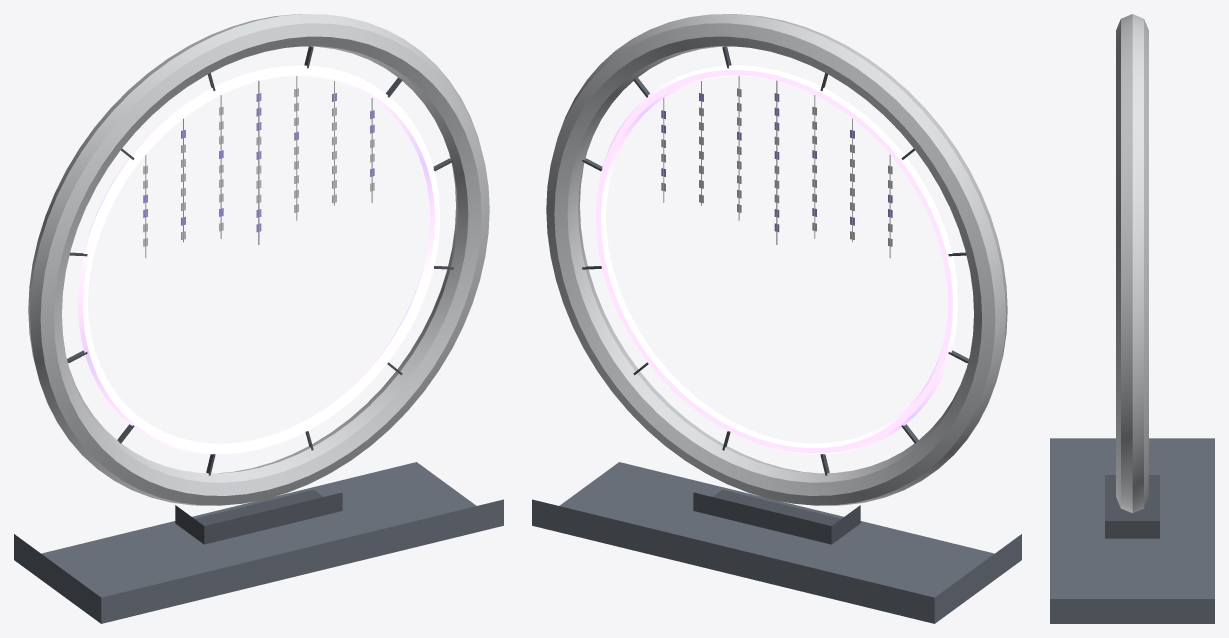
The model's file is ext_memorial_monument_03.glb.
The picture shows the model from 3 angles, left to right: view 1: azimuth 30°, elevation 25°; view 2: azimuth 150°, elevation 25°; view 3: azimuth 270°, elevation 25°; orthographic projection. The views are drawn at different scales.
Visible parts, largest first — view 1: Halo_Ring, Base, Inner_Halo, Cradle, Tags_Ti, Strands, Spokes, Tags_Violet; view 2: Halo_Ring, Base, Inner_Halo, Cradle, Tags_Ti, Strands, Spokes, Tags_Violet; view 3: Base, Halo_Ring, Cradle.
Boxes of the visible parts, box(x1,y1,x2,y2) form: Halo_Ring: box(28, 14, 489, 505); Base: box(14, 462, 503, 623); Inner_Halo: box(78, 65, 439, 454); Cradle: box(175, 489, 342, 544); Tags_Ti: box(143, 88, 374, 246); Strands: box(145, 76, 372, 258); Spokes: box(67, 46, 453, 475); Tags_Violet: box(143, 93, 374, 232); Halo_Ring: box(546, 14, 1007, 505); Base: box(532, 462, 1021, 623); Inner_Halo: box(596, 65, 957, 454); Cradle: box(693, 489, 860, 544); Tags_Ti: box(661, 88, 892, 246); Strands: box(663, 76, 890, 258); Spokes: box(582, 46, 968, 475); Tags_Violet: box(661, 93, 892, 232); Base: box(1050, 438, 1214, 623); Halo_Ring: box(1116, 14, 1148, 512); Cradle: box(1105, 475, 1159, 538).
Bounding box in the file's own units: 3.64 × 3.97 × 1.2.
